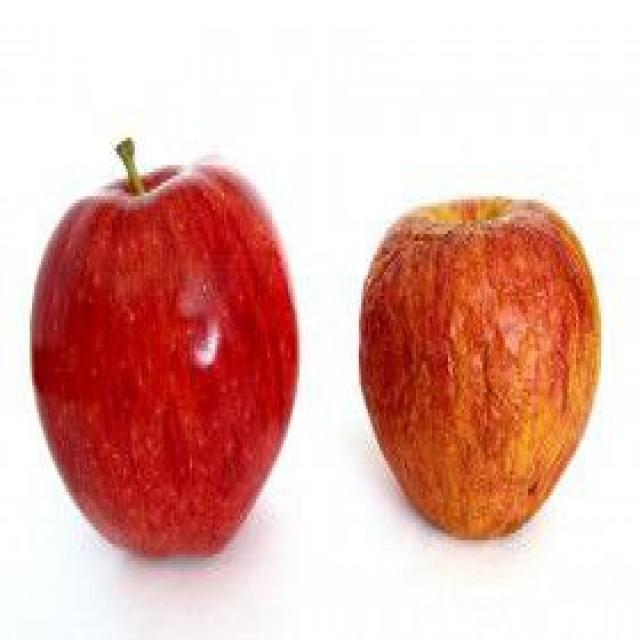Fresh Apple: (28, 165, 312, 552)
Rotten: (368, 205, 610, 543)
